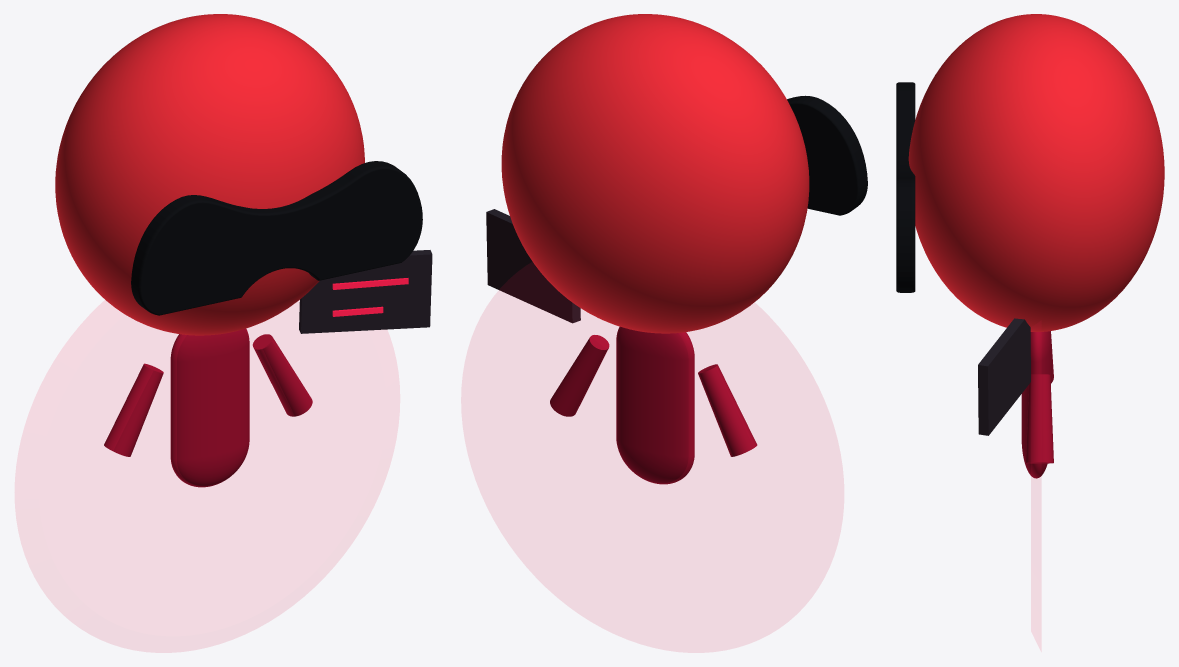
File: apn-mascot-glb-analyst.glb
The picture shows the model from 3 angles, left to right: view 1: azimuth 30°, elevation 25°; view 2: azimuth 150°, elevation 25°; view 3: azimuth 270°, elevation 25°; orthographic projection. The views are drawn at different scales.
Parts seen in each view (by area): view 1: red_volumetric_head, clean_controller_visor_exact_apn_silhouette, analyst_soft_torso, floating_summary_panel, analyst_left_arm, analyst_right_arm; view 2: red_volumetric_head, analyst_soft_torso, clean_controller_visor_exact_apn_silhouette, floating_summary_panel, analyst_left_arm, analyst_right_arm; view 3: red_volumetric_head, floating_summary_panel, clean_controller_visor_exact_apn_silhouette, analyst_right_arm, analyst_soft_torso.
Boxes of the visible parts, <box> form: red_volumetric_head: <box>55,14,364,335</box>; clean_controller_visor_exact_apn_silhouette: <box>131,161,422,315</box>; analyst_soft_torso: <box>170,328,249,487</box>; floating_summary_panel: <box>299,250,432,333</box>; analyst_left_arm: <box>104,363,163,456</box>; analyst_right_arm: <box>252,334,312,416</box>; red_volumetric_head: <box>501,14,809,333</box>; analyst_soft_torso: <box>616,326,694,484</box>; clean_controller_visor_exact_apn_silhouette: <box>787,95,867,215</box>; floating_summary_panel: <box>486,209,580,323</box>; analyst_left_arm: <box>698,364,757,456</box>; analyst_right_arm: <box>550,335,609,416</box>; red_volumetric_head: <box>908,14,1164,331</box>; floating_summary_panel: <box>978,318,1030,435</box>; clean_controller_visor_exact_apn_silhouette: <box>896,82,915,292</box>; analyst_right_arm: <box>1025,374,1053,463</box>; analyst_soft_torso: <box>1021,331,1050,478</box>.
Size of the model in its own units: 2.46 by 3.77 by 1.52.
